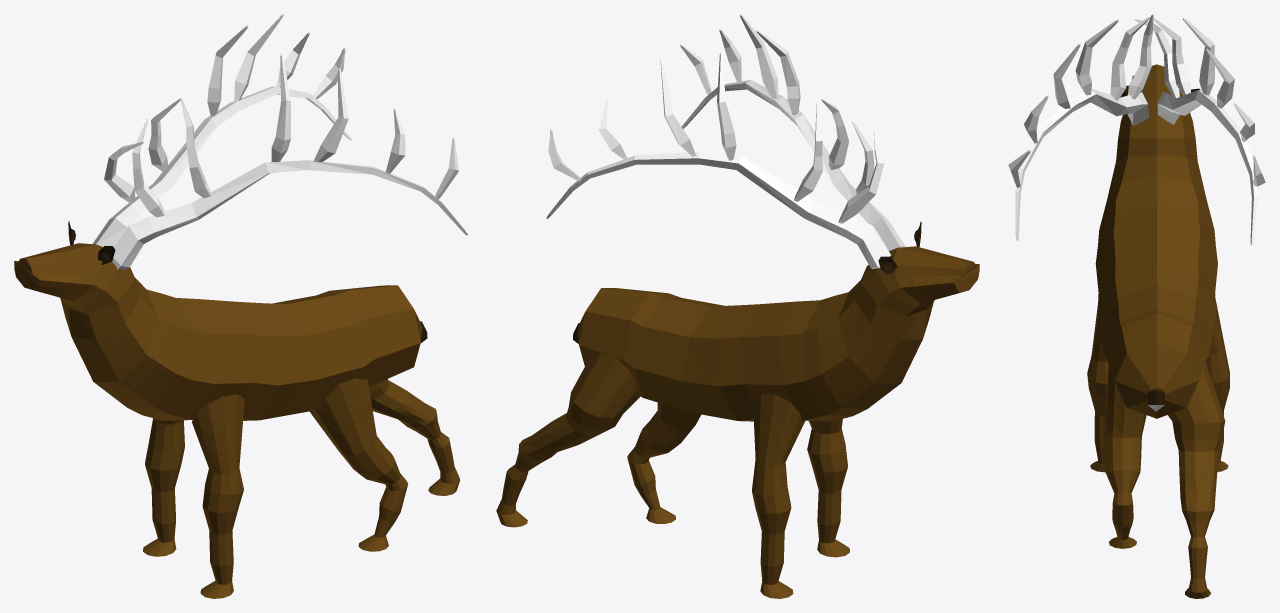
Rendered from Elk.obj.
3 renders of one model, left to right at view 1: azimuth 30°, elevation 25°; view 2: azimuth 150°, elevation 25°; view 3: azimuth 270°, elevation 25°, orthographic. The views are drawn at different scales.
Parts seen in each view (by area): view 1: Body, Leg_LF, Leg_LB, Sweep.1, Sweep, Sweep.1_1, Leg_RF, Sweep_1, LEg_RB; view 2: Body, LEg_RB, Leg_RF, Sweep_1, Sweep.1_1, Sweep.1, Leg_LF, Leg_LB, Sweep; view 3: Body, LEg_RB, Leg_LB, Sweep.1, Sweep.1_1, Sweep, Sweep_1, Leg_LF, Leg_RF.
Boxes of the visible parts, left/top/right/bottom form: Body: left=14, top=243, right=422, bottom=420; Leg_LF: left=192, top=394, right=244, bottom=598; Leg_LB: left=309, top=378, right=407, bottom=551; Sweep.1: left=132, top=54, right=459, bottom=217; Sweep: left=112, top=160, right=467, bottom=270; Sweep.1_1: left=104, top=14, right=345, bottom=202; Leg_RF: left=143, top=418, right=184, bottom=556; Sweep_1: left=92, top=86, right=351, bottom=246; LEg_RB: left=370, top=379, right=460, bottom=495; Body: left=577, top=246, right=979, bottom=421; LEg_RB: left=496, top=353, right=640, bottom=527; Leg_RF: left=752, top=393, right=805, bottom=598; Sweep_1: left=546, top=151, right=890, bottom=268; Sweep.1_1: left=548, top=52, right=884, bottom=223; Sweep.1: left=680, top=14, right=874, bottom=194; Leg_LF: left=807, top=419, right=849, bottom=557; Leg_LB: left=627, top=402, right=701, bottom=523; Sweep: left=682, top=80, right=905, bottom=250; Body: left=1095, top=64, right=1217, bottom=418; LEg_RB: left=1168, top=363, right=1225, bottom=598; Leg_LB: left=1104, top=366, right=1146, bottom=548; Sweep.1: left=1008, top=14, right=1153, bottom=187; Sweep.1_1: left=1134, top=18, right=1265, bottom=186; Sweep: left=1015, top=89, right=1149, bottom=240; Sweep_1: left=1157, top=90, right=1257, bottom=245; Leg_LF: left=1087, top=305, right=1108, bottom=472; Leg_RF: left=1206, top=300, right=1229, bottom=471.
Bounding box in the file's own units: 335 × 364 × 176.
